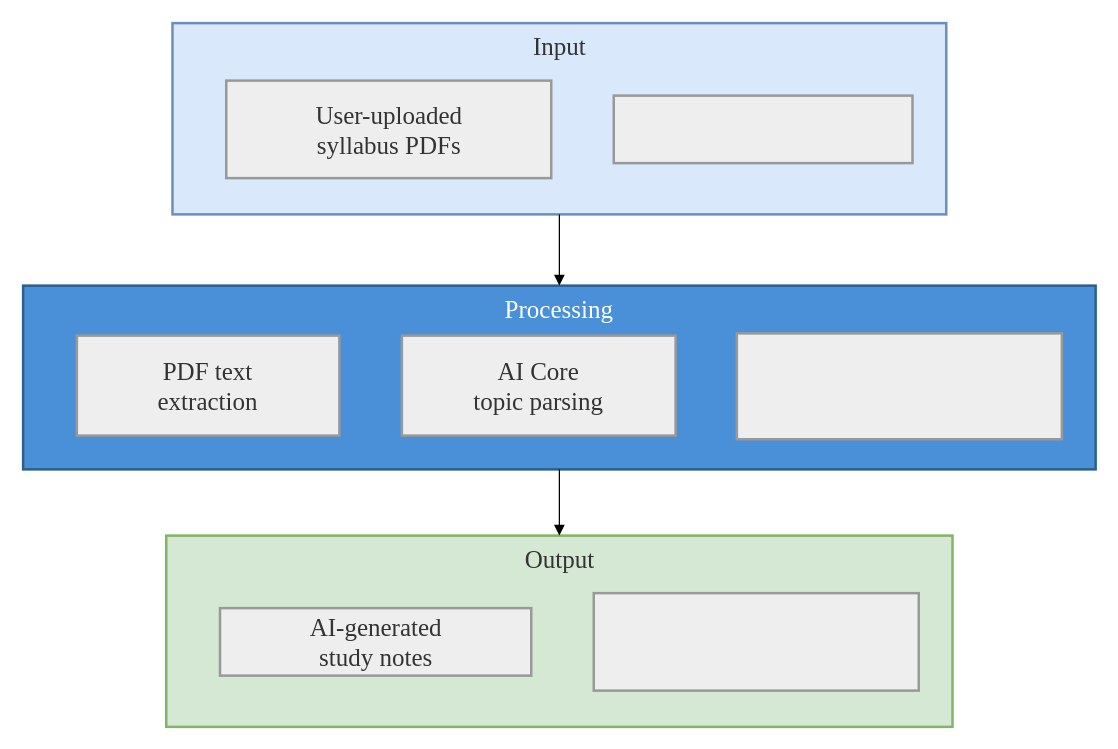
The diagram is 1118 pixels wide and 749 high, and some of its shapes have lost their labels. Each missing label, with the centre of its shape:
"Decompose exam objectives into JSON hierarchy" goes at point 898,386.
"Interactive syllabus roadmap" goes at point 755,641.
"Selected study subjects" goes at point 762,129.
